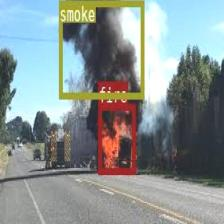fire: (98, 104, 134, 174)
smoke: (59, 0, 143, 98)
